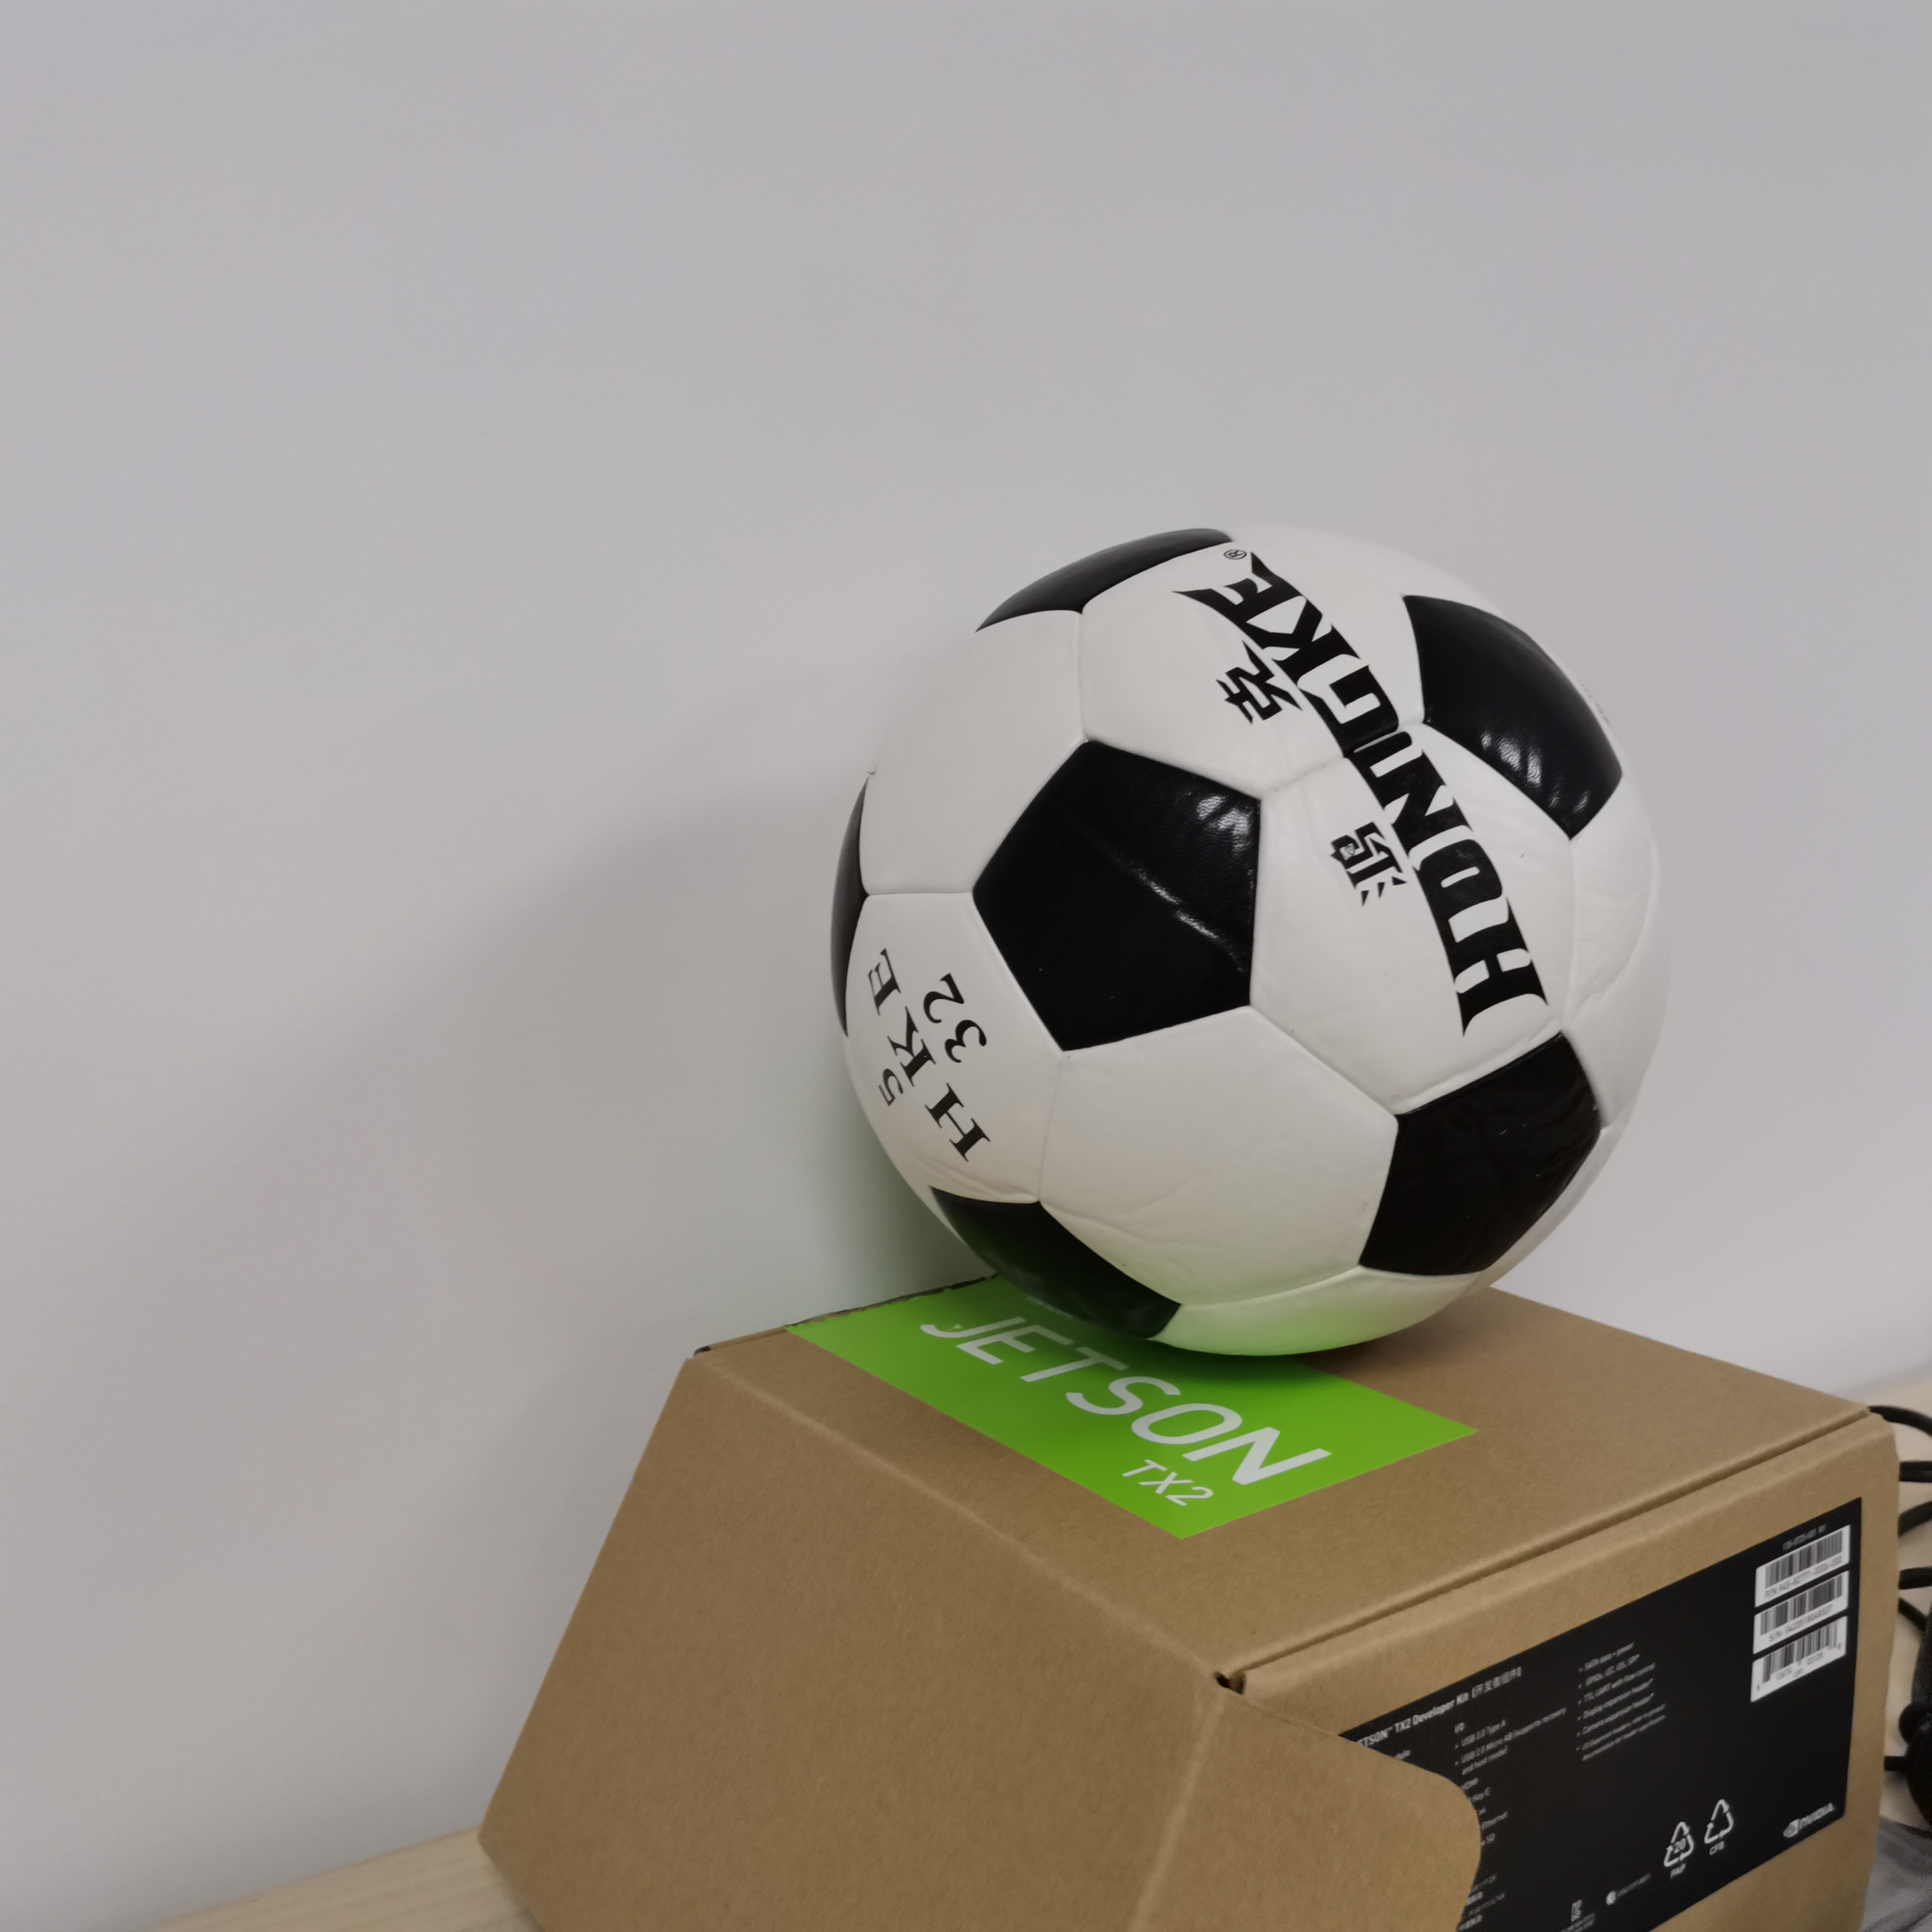football: (832, 525, 1667, 1361)
